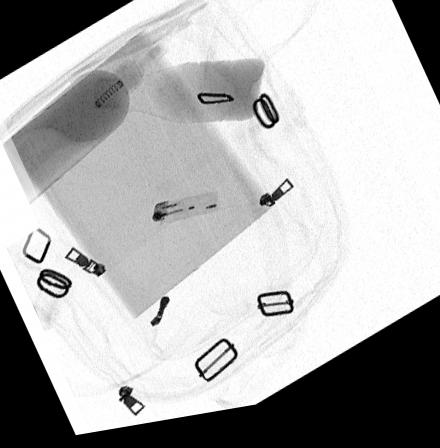Lighter: (151, 198, 220, 229)
